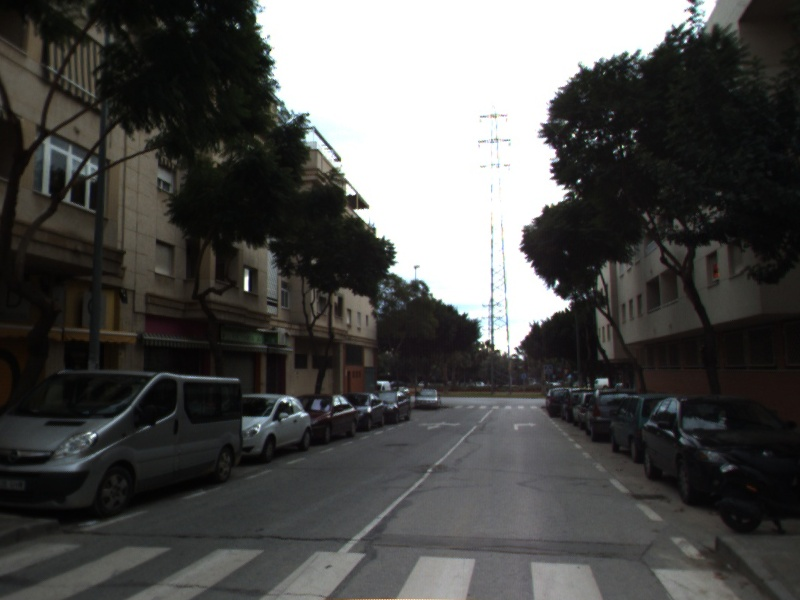RIGHT: (511, 419, 538, 432)
